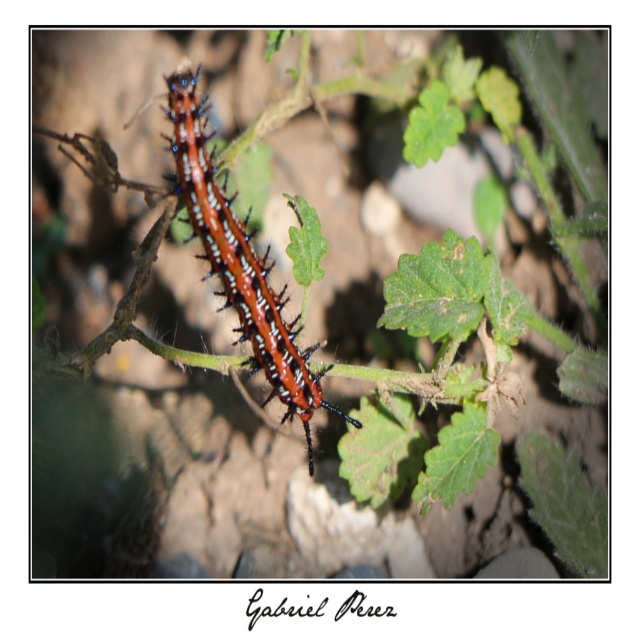Centipede: (151, 58, 362, 478)
